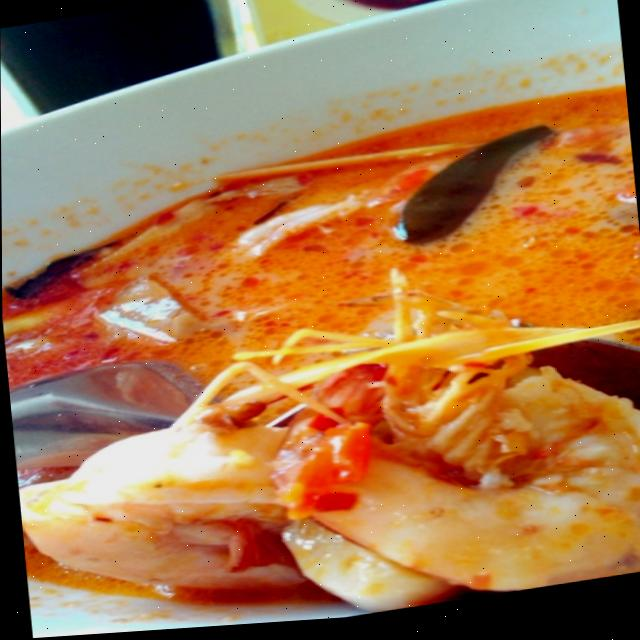汤锅炖物: (0, 39, 640, 640)
